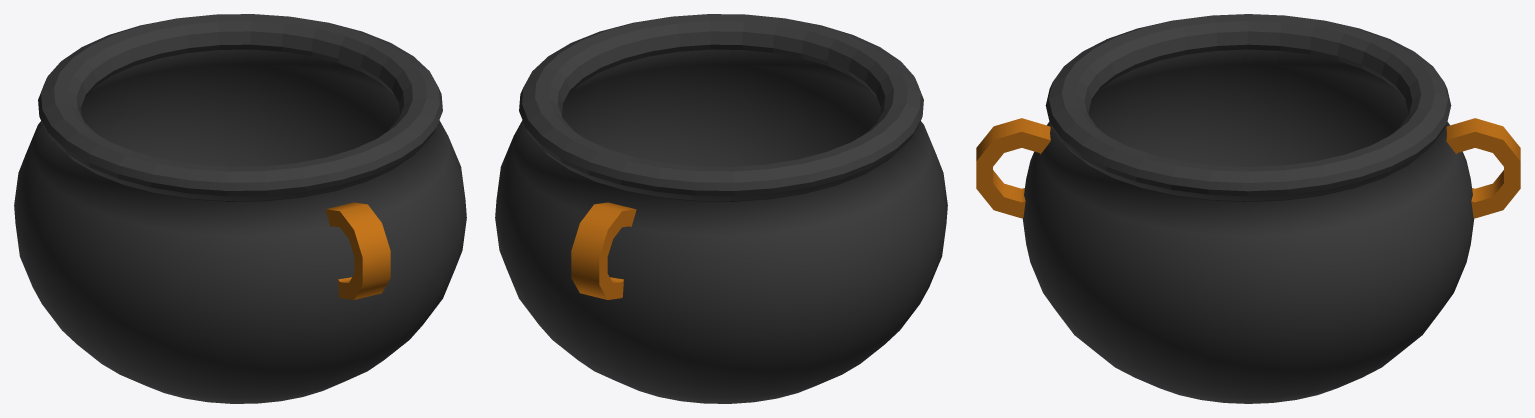
File: CalderoMSv5.fbx
The picture shows the model from 3 angles, left to right: view 1: azimuth 30°, elevation 25°; view 2: azimuth 150°, elevation 25°; view 3: azimuth 270°, elevation 25°; orthographic projection.
Visible parts, largest first — view 1: Sphere002; view 2: Sphere002; view 3: Sphere002.
Part boxes in pixels (x1,y1,x2,y2): Sphere002: (14,14,466,403); Sphere002: (495,14,947,403); Sphere002: (976,14,1520,403).
Bounding box in the file's own units: 29.28 × 18.89 × 35.17.
